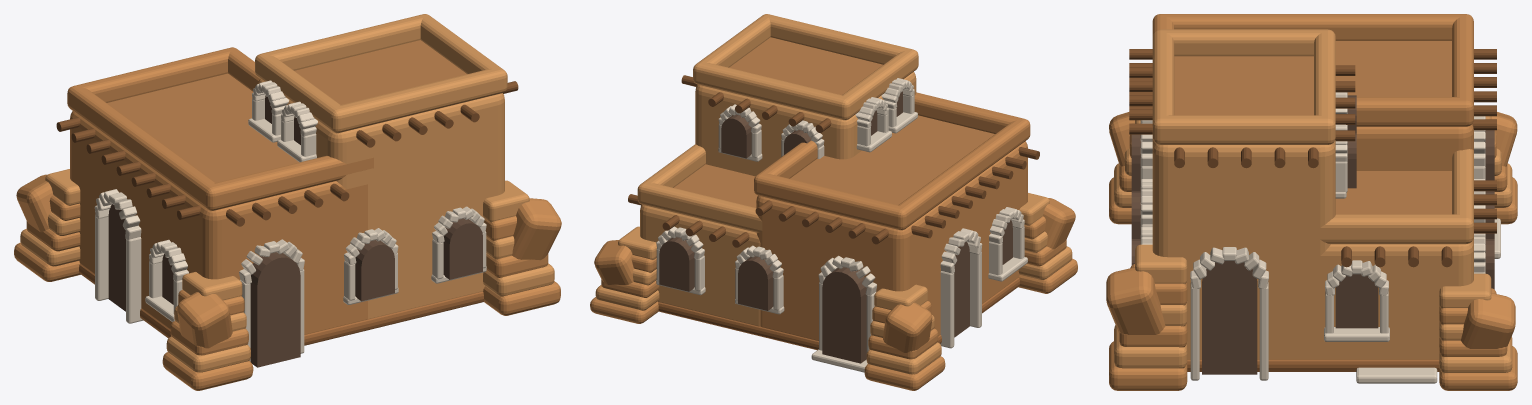
File: openscad_miniature-brick-lumber-house_L5_Q1__gemini4argon.glb
3 renders of one model, left to right at view 1: azimuth 30°, elevation 25°; view 2: azimuth 150°, elevation 25°; view 3: azimuth 270°, elevation 25°, orthographic. The views are drawn at different scales.
Parts seen in each view (by area): view 1: object; view 2: object; view 3: object.
Part boxes in pixels (left/top/right/bottom): object: left=14, top=14, right=561, bottom=390; object: left=590, top=14, right=1077, bottom=390; object: left=1106, top=14, right=1517, bottom=390.
Bounding box in the file's own units: 741 × 442 × 640.
